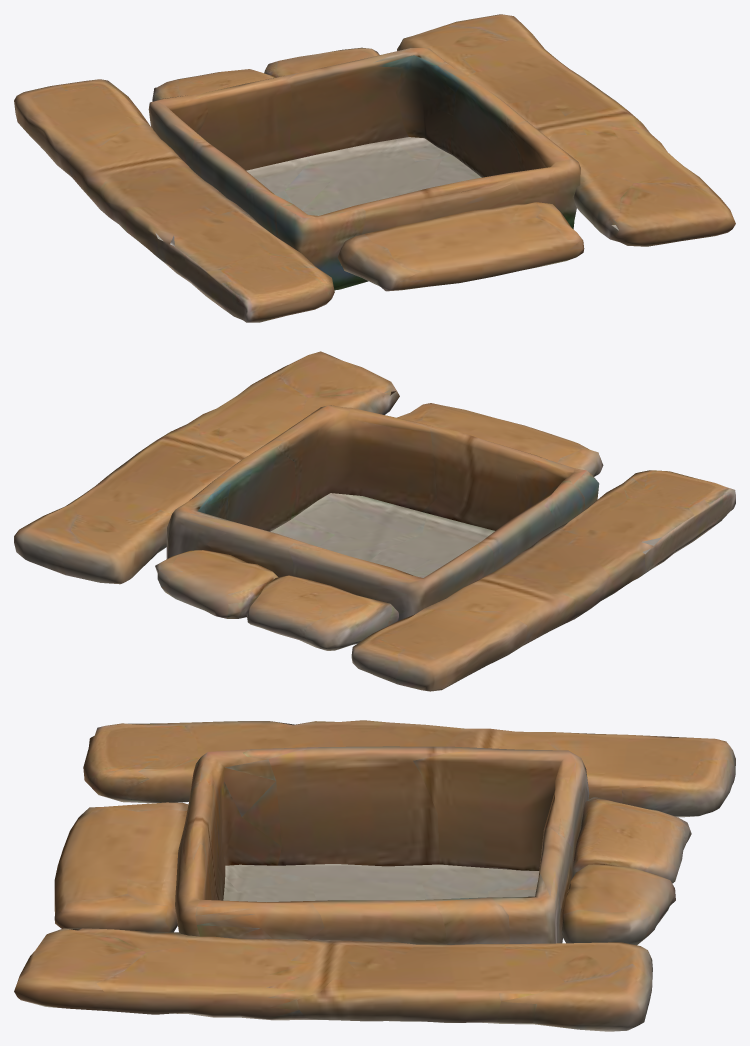
Rendered from el_soquete.glb.
3 views of the same model, one above another, from view 1: azimuth 30°, elevation 25°; view 2: azimuth 150°, elevation 25°; view 3: azimuth 270°, elevation 25° (orthographic). The views are drawn at different scales.
Visible parts, largest first — view 1: Mesh_0.007; view 2: Mesh_0.007; view 3: Mesh_0.007.
Part boxes in pixels (x1,y1,x2,y2): Mesh_0.007: (14, 14, 735, 322); Mesh_0.007: (14, 351, 735, 691); Mesh_0.007: (14, 720, 735, 1031).
Size of the model in its own units: 0.246 by 0.0435 by 0.2635.
1 material, 1 textured.
